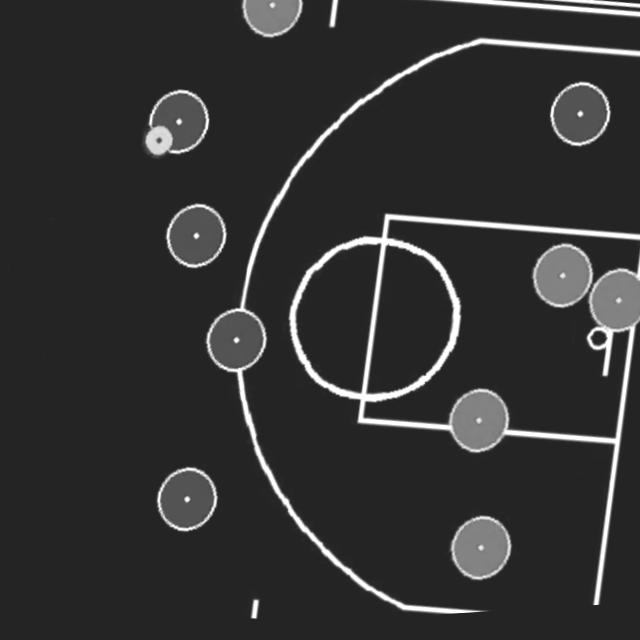Basketball: (142, 128, 172, 159)
Team_A: (147, 92, 208, 156), (549, 89, 609, 154), (165, 206, 225, 271), (205, 311, 265, 375), (156, 470, 215, 533)
Team_B: (449, 522, 510, 586), (447, 394, 508, 458), (532, 250, 591, 314), (588, 277, 640, 340), (242, 0, 302, 40)
